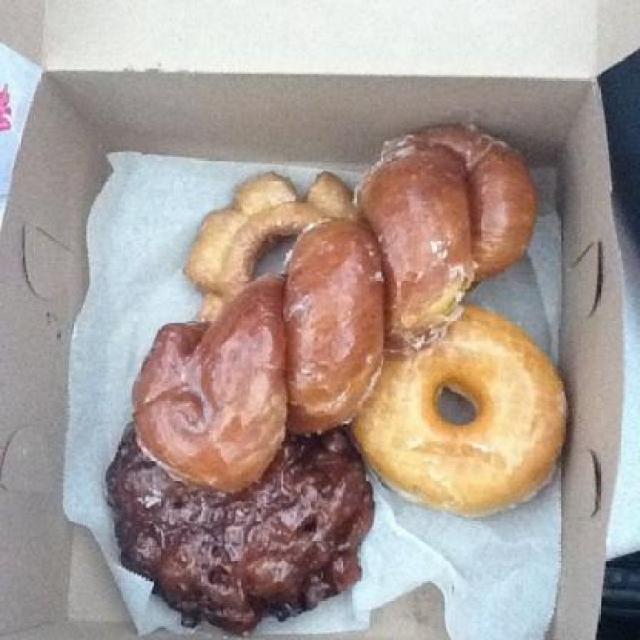Donuts: (76, 116, 602, 639)
